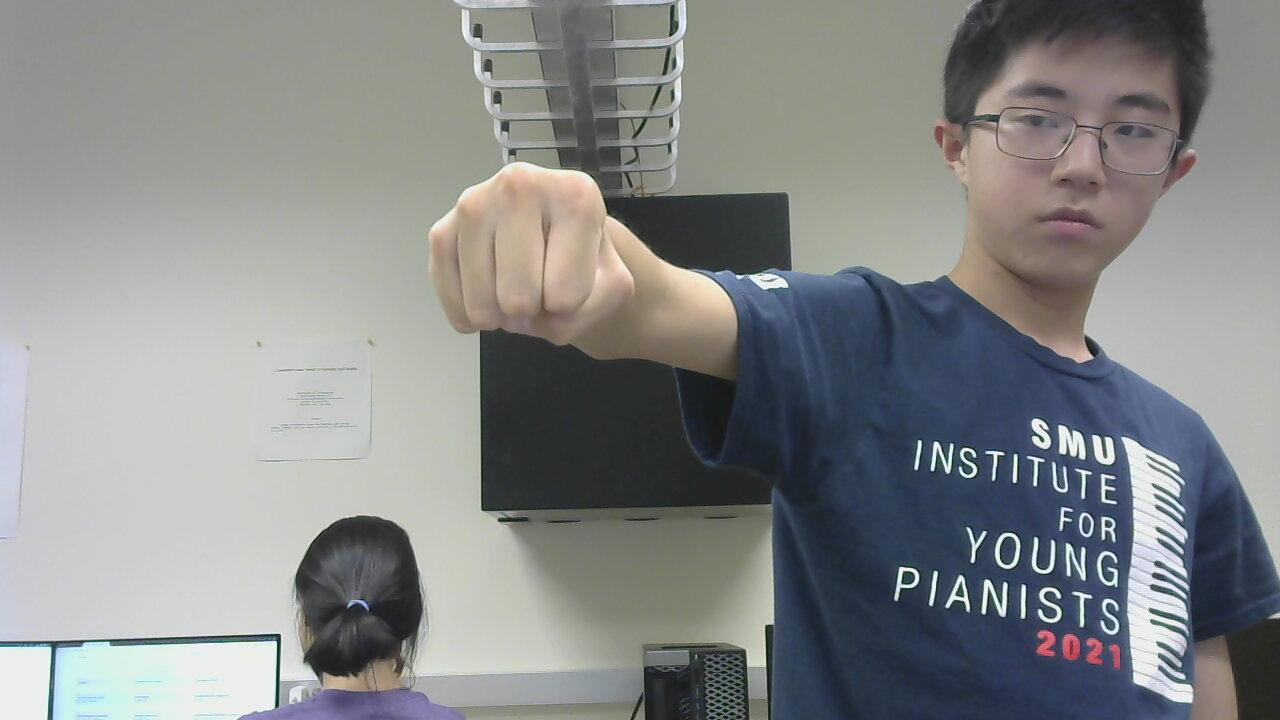fist: (386, 159, 645, 361)
